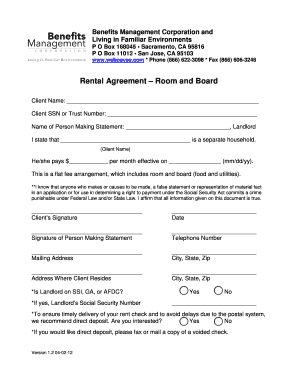checkbox: (210, 315, 225, 328), (177, 316, 191, 327), (212, 284, 224, 296), (176, 285, 189, 295)
textline: (66, 90, 259, 106), (107, 106, 258, 119), (59, 133, 189, 147), (29, 244, 145, 258), (31, 223, 145, 236), (29, 203, 142, 215), (168, 202, 261, 216), (29, 266, 146, 277), (126, 120, 230, 132), (167, 245, 260, 257), (169, 298, 263, 309), (168, 225, 260, 236), (168, 265, 259, 276), (168, 154, 221, 167), (68, 152, 106, 166)
